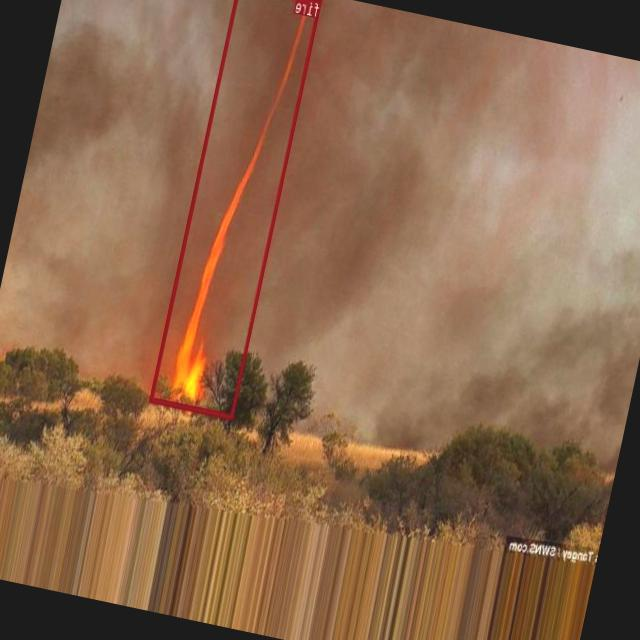fire: (149, 0, 322, 419)
